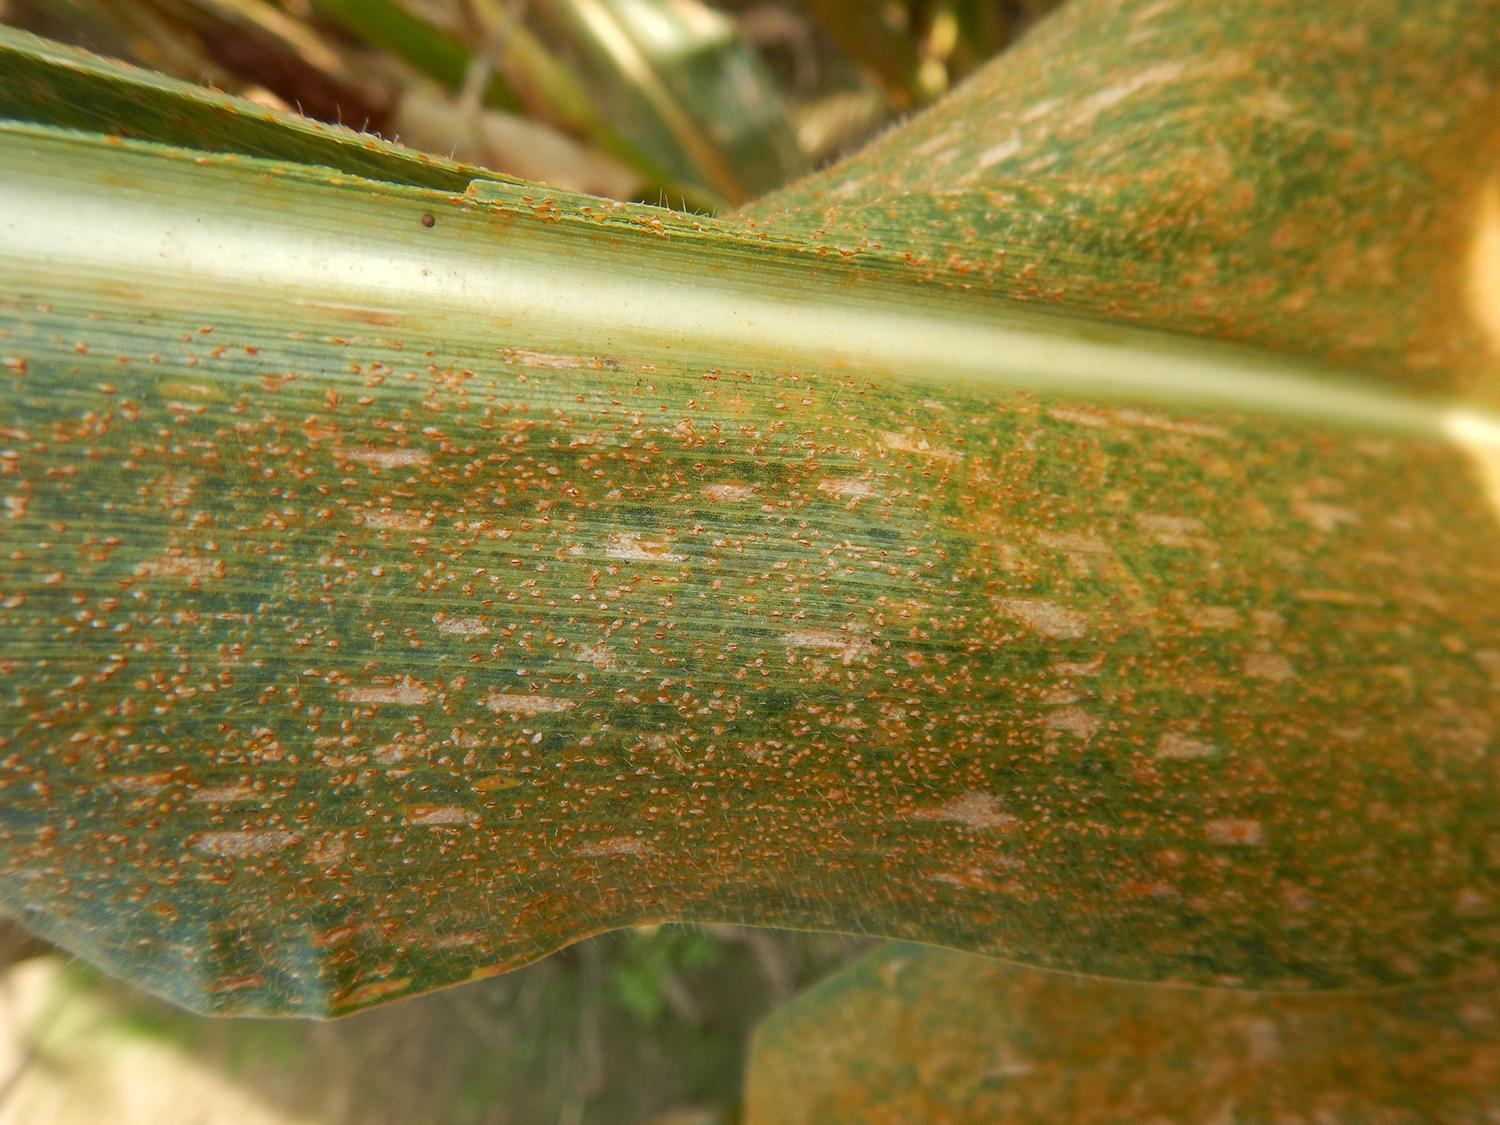Corn_Common_Rust: (380, 446, 1500, 1004), (0, 294, 380, 1030), (846, 0, 1500, 325), (378, 142, 846, 274), (0, 45, 378, 197), (380, 338, 759, 446), (755, 355, 1004, 451), (1003, 395, 1346, 453), (1324, 321, 1500, 390)
